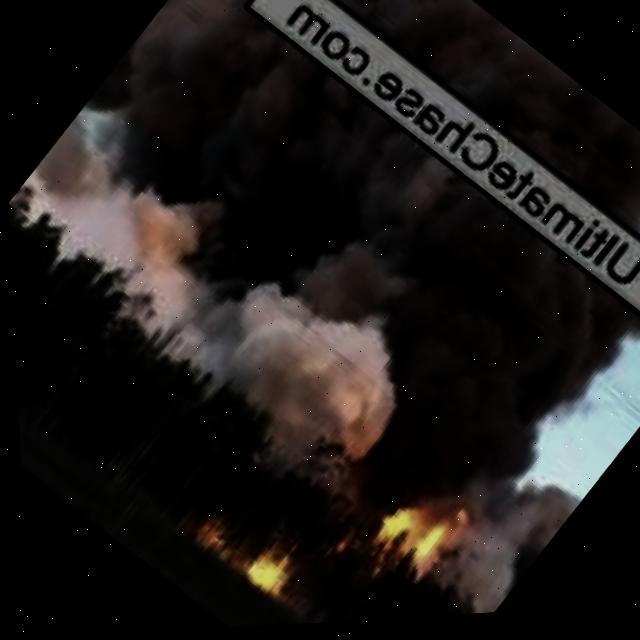Fire: (349, 468, 481, 603), (232, 533, 299, 601), (177, 501, 234, 559)
Smoke: (16, 0, 640, 570), (232, 0, 640, 275)
